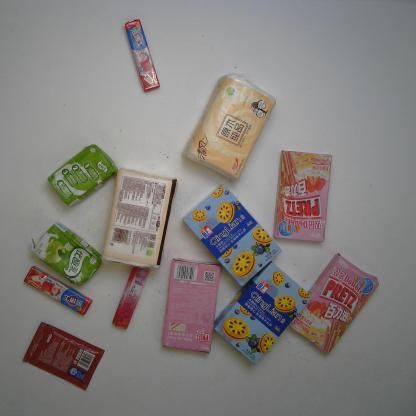Candy: (22, 264, 94, 316), (124, 17, 160, 94), (111, 263, 151, 330)
Dessert: (182, 182, 283, 290), (213, 258, 313, 367), (288, 251, 380, 358), (160, 256, 224, 356), (271, 149, 335, 245)
Milk: (45, 140, 119, 207), (30, 220, 103, 287)
Seasoner: (21, 320, 108, 391)
Tissue: (180, 69, 278, 183), (99, 166, 178, 271)
